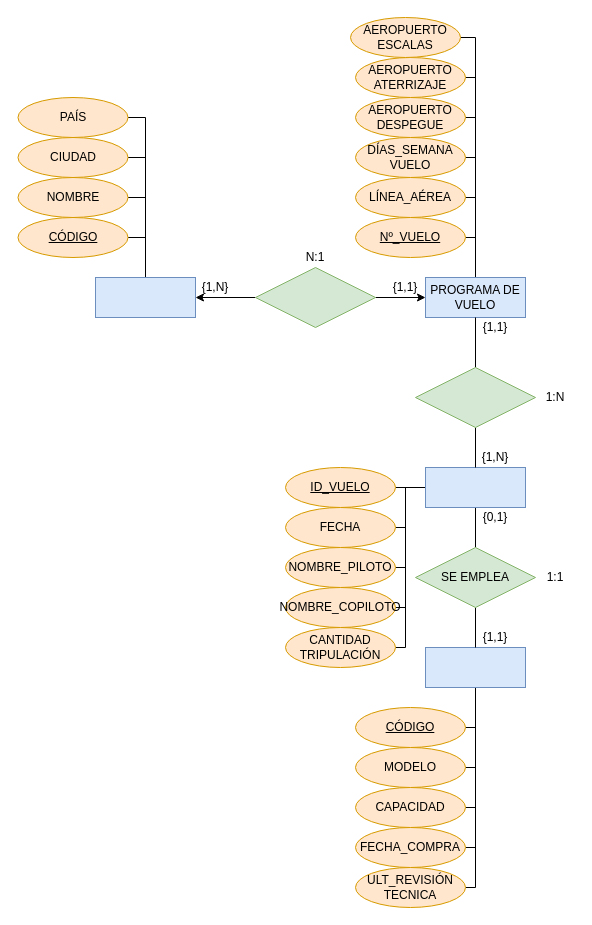
Image size: 592x925. Some labels were removed from this diagram. The shapes that lost their labels are listed below. From the top down, each one's box as (x1, y1, x2, y2) in pixels, then its label:
(94, 276, 196, 318): AEROPUERTO
(254, 266, 376, 328): TIENE
(414, 366, 536, 428): PERTENECE
(424, 466, 526, 508): VUELO
(424, 646, 526, 688): AVIÓN
